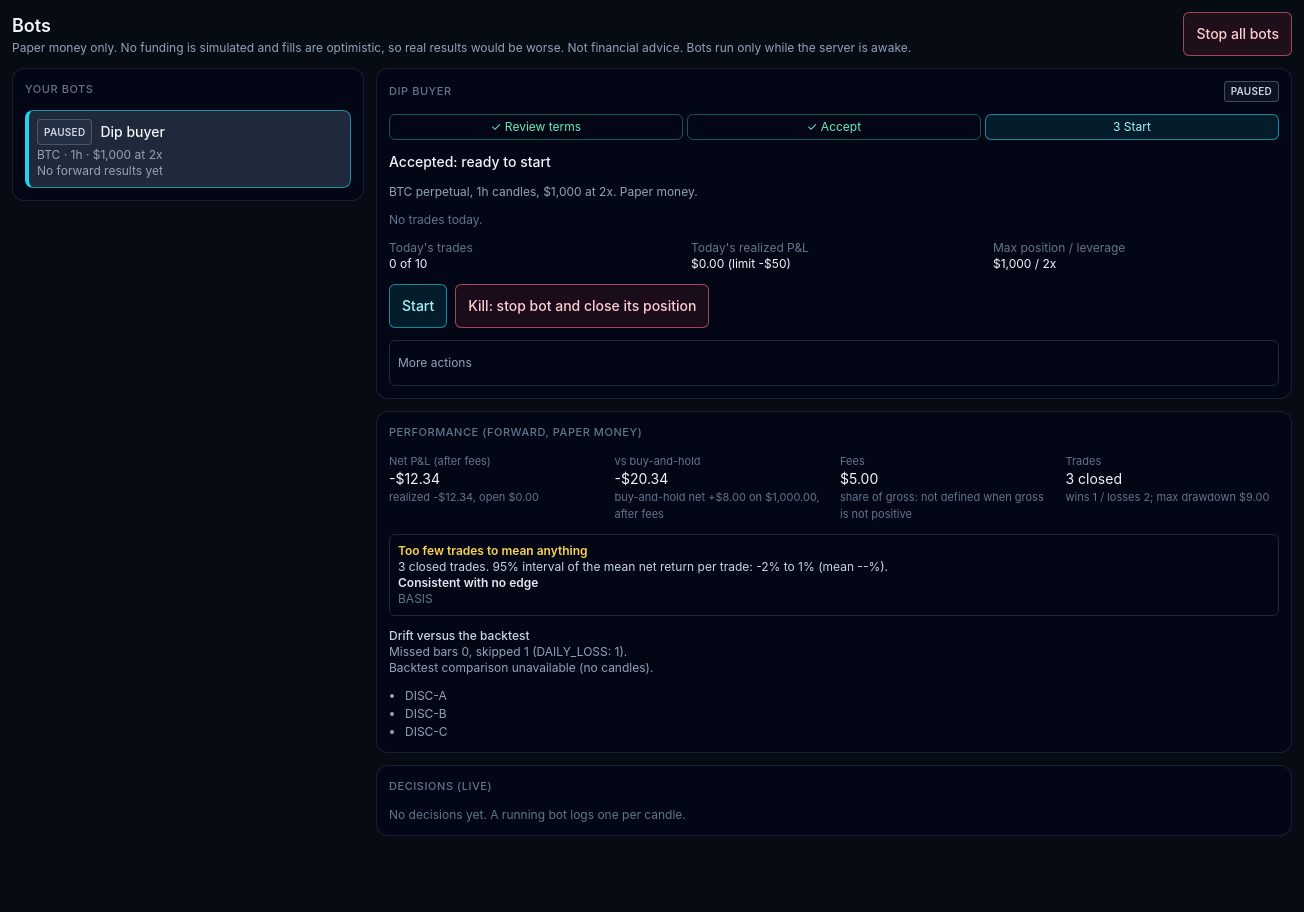
Test: accepted-not-started bot is on step 3 with Start as the primary action; accept success is shown inline
Expected: the list item "3 Start" is shown, [985,114,1279,140]
Click the button "Start": (418, 306) [389,284,447,328]
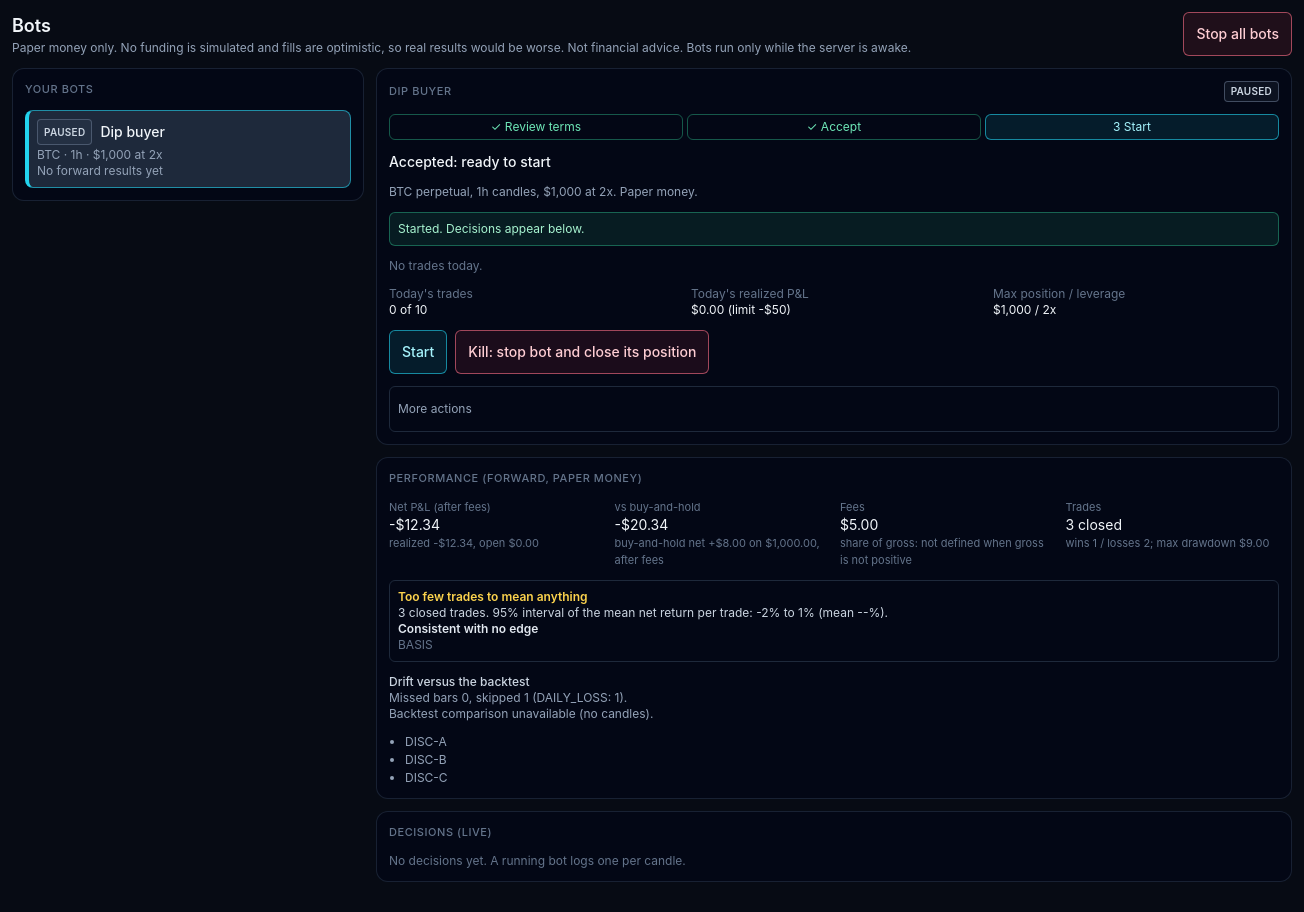
Expected: the text "Started. Decisions appear below." is shown, [389,212,1279,246]
